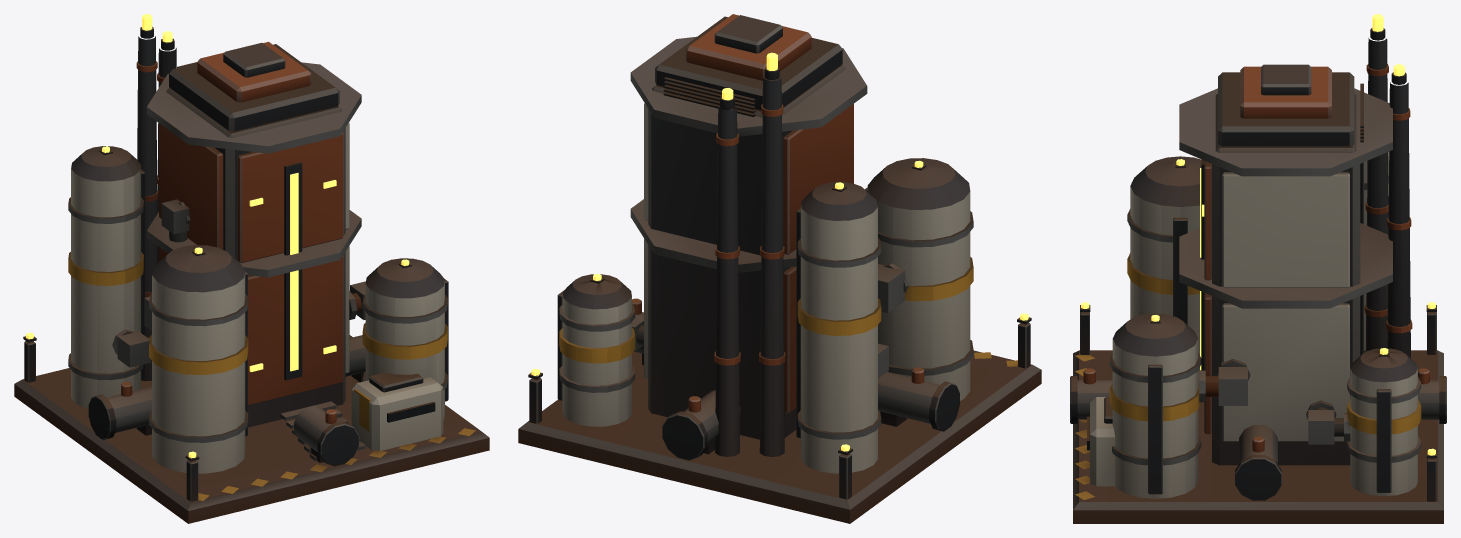
File: district-kit.glb
The picture shows the model from 3 angles, left to right: view 1: azimuth 30°, elevation 25°; view 2: azimuth 150°, elevation 25°; view 3: azimuth 270°, elevation 25°; orthographic projection. The views are drawn at different scales.
Visible parts, largest first — view 1: khepri_processing_tower; view 2: khepri_processing_tower; view 3: khepri_processing_tower.
Boxes of the visible parts, <box> form: khepri_processing_tower: <box>14,14,489,523</box>; khepri_processing_tower: <box>518,14,1041,523</box>; khepri_processing_tower: <box>1070,14,1446,523</box>.
Size of the model in its own units: 3 by 3.55 by 3.
